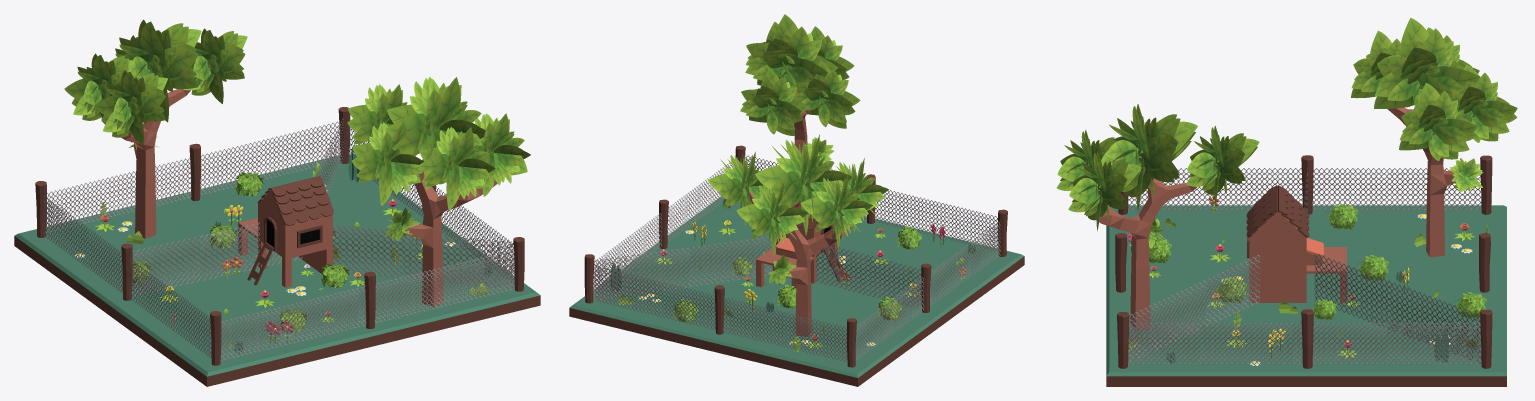
Rendered from chicken_plot.fbx.
3 views of the same model, side by side, from view 1: azimuth 30°, elevation 25°; view 2: azimuth 150°, elevation 25°; view 3: azimuth 270°, elevation 25° (orthographic). The views are drawn at different scales.
Visible parts, largest first — view 1: Flower 1; view 2: Flower 1; view 3: Flower 1.
Boxes of the visible parts, x1,y1,x2,y2 form: Flower 1: (14,19,540,386); Flower 1: (569,14,1024,386); Flower 1: (1056,17,1517,386).
Bounding box in the file's own units: 1400 × 954 × 1632.
